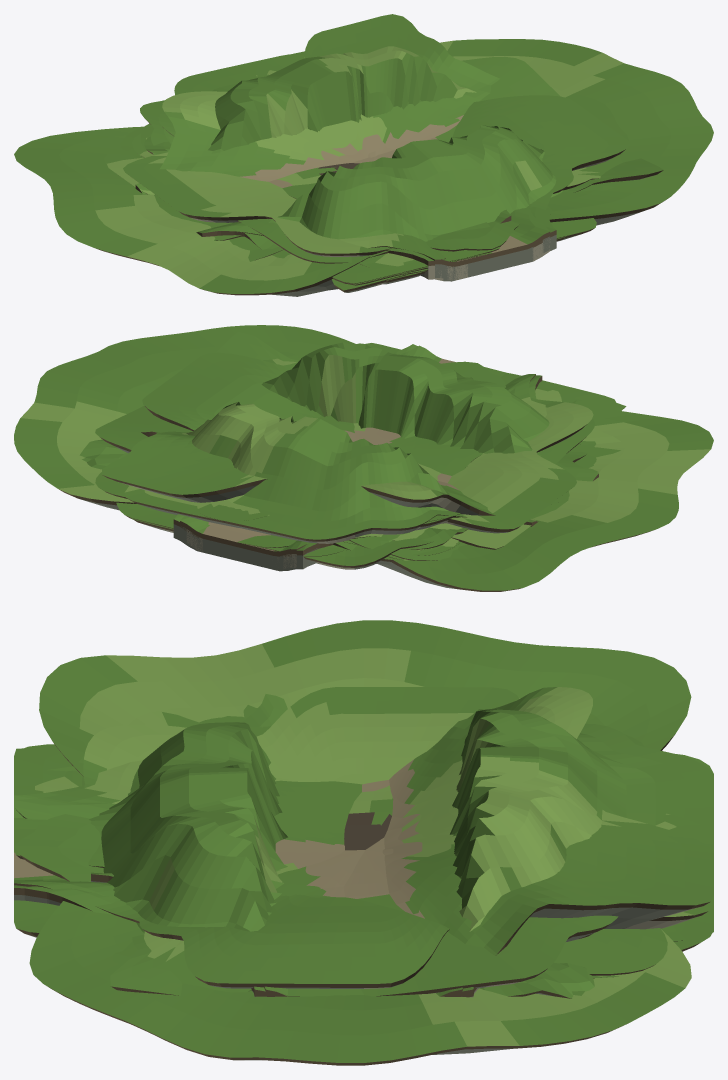
File: verdant_valley_terrain.fbx
3 views of the same model, one above another, from view 1: azimuth 30°, elevation 25°; view 2: azimuth 150°, elevation 25°; view 3: azimuth 270°, elevation 25° (orthographic). The views are drawn at different scales.
Visible parts, largest first — view 1: chunk_boss_sanctuary, chunk_path_cliff_passage, chunk_windward_ridge_gate, chunk_path_narrow_pass, chunk_forgotten_orchard_gate, chunk_cliff_overlook_gate, chunk_entry_woodland_refuge, chunk_ancient_oak, chunk_high_ledge_gate, chunk_path_sunwash_fork, chunk_cap_cave_mouth, chunk_cap_wardens_clearing (+3 smaller); view 2: chunk_boss_sanctuary, chunk_path_cliff_passage, chunk_path_narrow_pass, chunk_windward_ridge_gate, chunk_cliff_overlook_gate, chunk_forgotten_orchard_gate, chunk_high_ledge_gate, chunk_cap_treasure_hollow, chunk_entry_woodland_refuge, chunk_ancient_oak, chunk_mossbound_ruins, chunk_cutbank_ford (+6 smaller); view 3: chunk_boss_sanctuary, chunk_path_cliff_passage, chunk_path_narrow_pass, chunk_windward_ridge_gate, chunk_cliff_overlook_gate, chunk_entry_woodland_refuge, chunk_cap_treasure_hollow, chunk_high_ledge_gate, chunk_forgotten_orchard_gate, chunk_cap_cave_mouth, chunk_mossbound_ruins, chunk_path_sunwash_fork (+4 smaller).
Boxes of the visible parts, x1=… form: chunk_boss_sanctuary: x1=14, y1=39, x2=713, y2=296; chunk_path_cliff_passage: x1=158, y1=46, x2=563, y2=260; chunk_windward_ridge_gate: x1=136, y1=14, x2=499, y2=292; chunk_path_narrow_pass: x1=123, y1=95, x2=630, y2=256; chunk_forgotten_orchard_gate: x1=139, y1=100, x2=663, y2=281; chunk_cliff_overlook_gate: x1=164, y1=56, x2=560, y2=280; chunk_entry_woodland_refuge: x1=107, y1=138, x2=622, y2=275; chunk_ancient_oak: x1=428, y1=232, x2=550, y2=280; chunk_high_ledge_gate: x1=167, y1=51, x2=450, y2=283; chunk_path_sunwash_fork: x1=119, y1=125, x2=500, y2=261; chunk_cap_cave_mouth: x1=140, y1=163, x2=511, y2=260; chunk_cap_wardens_clearing: x1=207, y1=182, x2=615, y2=241; chunk_boss_sanctuary: x1=14, y1=325, x2=713, y2=591; chunk_path_cliff_passage: x1=182, y1=342, x2=549, y2=543; chunk_path_narrow_pass: x1=142, y1=352, x2=593, y2=549; chunk_windward_ridge_gate: x1=102, y1=403, x2=626, y2=524; chunk_cliff_overlook_gate: x1=95, y1=345, x2=460, y2=570; chunk_forgotten_orchard_gate: x1=216, y1=332, x2=542, y2=569; chunk_high_ledge_gate: x1=124, y1=386, x2=616, y2=527; chunk_cap_treasure_hollow: x1=186, y1=423, x2=482, y2=569; chunk_entry_woodland_refuge: x1=95, y1=358, x2=594, y2=569; chunk_ancient_oak: x1=180, y1=374, x2=535, y2=569; chunk_mossbound_ruins: x1=167, y1=372, x2=598, y2=560; chunk_cutbank_ford: x1=79, y1=380, x2=530, y2=549; chunk_boss_sanctuary: x1=14, y1=620, x2=691, y2=1065; chunk_path_cliff_passage: x1=89, y1=709, x2=713, y2=996; chunk_path_narrow_pass: x1=83, y1=687, x2=593, y2=988; chunk_windward_ridge_gate: x1=14, y1=687, x2=713, y2=994; chunk_cliff_overlook_gate: x1=14, y1=837, x2=618, y2=996; chunk_entry_woodland_refuge: x1=47, y1=698, x2=667, y2=992; chunk_cap_treasure_hollow: x1=274, y1=780, x2=362, y2=874; chunk_high_ledge_gate: x1=14, y1=722, x2=713, y2=991; chunk_forgotten_orchard_gate: x1=14, y1=754, x2=713, y2=995; chunk_cap_cave_mouth: x1=14, y1=791, x2=393, y2=996; chunk_mossbound_ruins: x1=14, y1=694, x2=389, y2=895; chunk_path_sunwash_fork: x1=14, y1=731, x2=644, y2=996.
Size of the model in its own units: 384 by 88.84 by 256.
